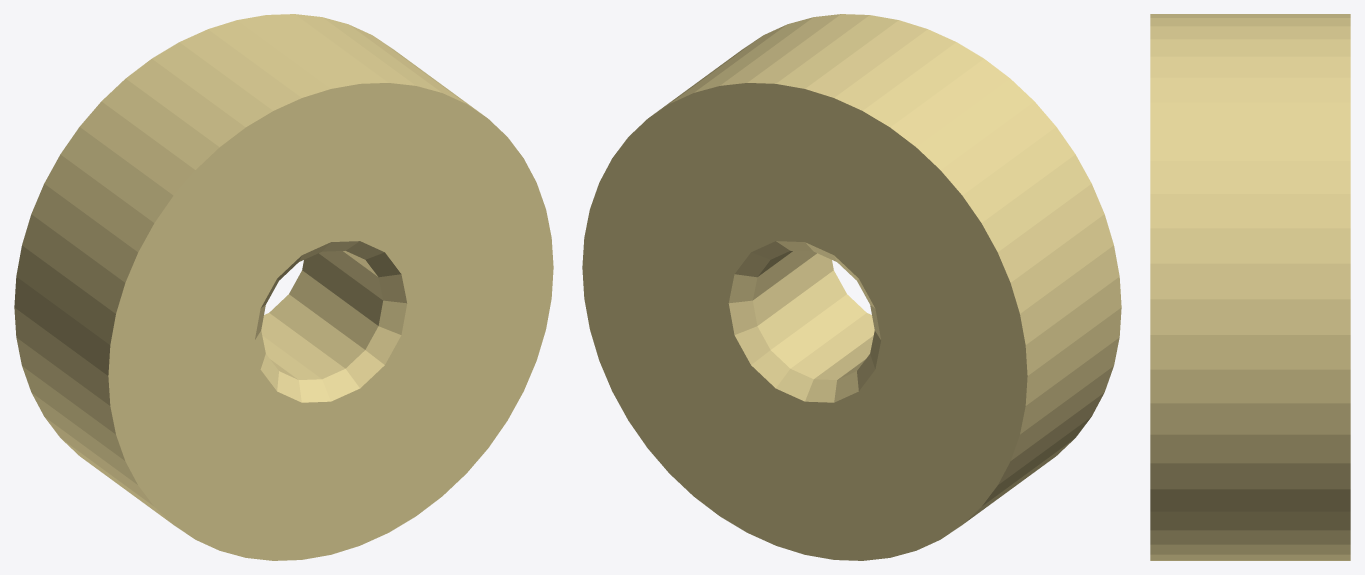
File: ring_05_coll.glb
3 views of the same model, side by side, from view 1: azimuth 30°, elevation 25°; view 2: azimuth 150°, elevation 25°; view 3: azimuth 270°, elevation 25° (orthographic). The views are drawn at different scales.
Visible parts, largest first — view 1: wedge_06, wedge_05, wedge_07, wedge_04, wedge_08, wedge_03, wedge_14, wedge_13, wedge_09, wedge_15, wedge_12, wedge_02 (+4 smaller); view 2: wedge_06, wedge_05, wedge_07, wedge_04, wedge_08, wedge_03, wedge_14, wedge_13, wedge_09, wedge_15, wedge_12, wedge_02 (+4 smaller); view 3: wedge_01, wedge_00, wedge_02, wedge_15, wedge_03, wedge_14, wedge_04, wedge_13.
Boxes of the visible parts, left/top/right/bottom form: wedge_06: left=31, top=127, right=278, bottom=308; wedge_05: left=79, top=59, right=301, bottom=280; wedge_07: left=14, top=214, right=265, bottom=375; wedge_04: left=152, top=20, right=330, bottom=261; wedge_08: left=14, top=307, right=265, bottom=460; wedge_03: left=237, top=14, right=415, bottom=251; wedge_14: left=289, top=270, right=536, bottom=447; wedge_13: left=269, top=294, right=488, bottom=515; wedge_09: left=32, top=354, right=278, bottom=524; wedge_15: left=302, top=253, right=553, bottom=360; wedge_12: left=261, top=313, right=415, bottom=554; wedge_02: left=322, top=17, right=487, bottom=259; wedge_06: left=857, top=127, right=1104, bottom=308; wedge_05: left=834, top=59, right=1056, bottom=280; wedge_07: left=870, top=214, right=1121, bottom=375; wedge_04: left=805, top=20, right=983, bottom=261; wedge_08: left=870, top=307, right=1121, bottom=460; wedge_03: left=720, top=14, right=898, bottom=251; wedge_14: left=599, top=270, right=846, bottom=447; wedge_13: left=647, top=294, right=866, bottom=515; wedge_09: left=857, top=354, right=1103, bottom=524; wedge_15: left=582, top=253, right=833, bottom=360; wedge_12: left=720, top=313, right=874, bottom=554; wedge_02: left=648, top=17, right=813, bottom=259; wedge_01: left=1150, top=194, right=1350, bottom=299; wedge_00: left=1150, top=299, right=1350, bottom=403; wedge_02: left=1150, top=102, right=1350, bottom=193; wedge_15: left=1150, top=403, right=1350, bottom=489; wedge_03: left=1150, top=39, right=1350, bottom=102; wedge_14: left=1150, top=489, right=1350, bottom=544; wedge_04: left=1150, top=14, right=1350, bottom=39; wedge_13: left=1150, top=544, right=1350, bottom=560.
Bounding box in the file's own units: 0.0584 × 0.0584 × 0.0214.
